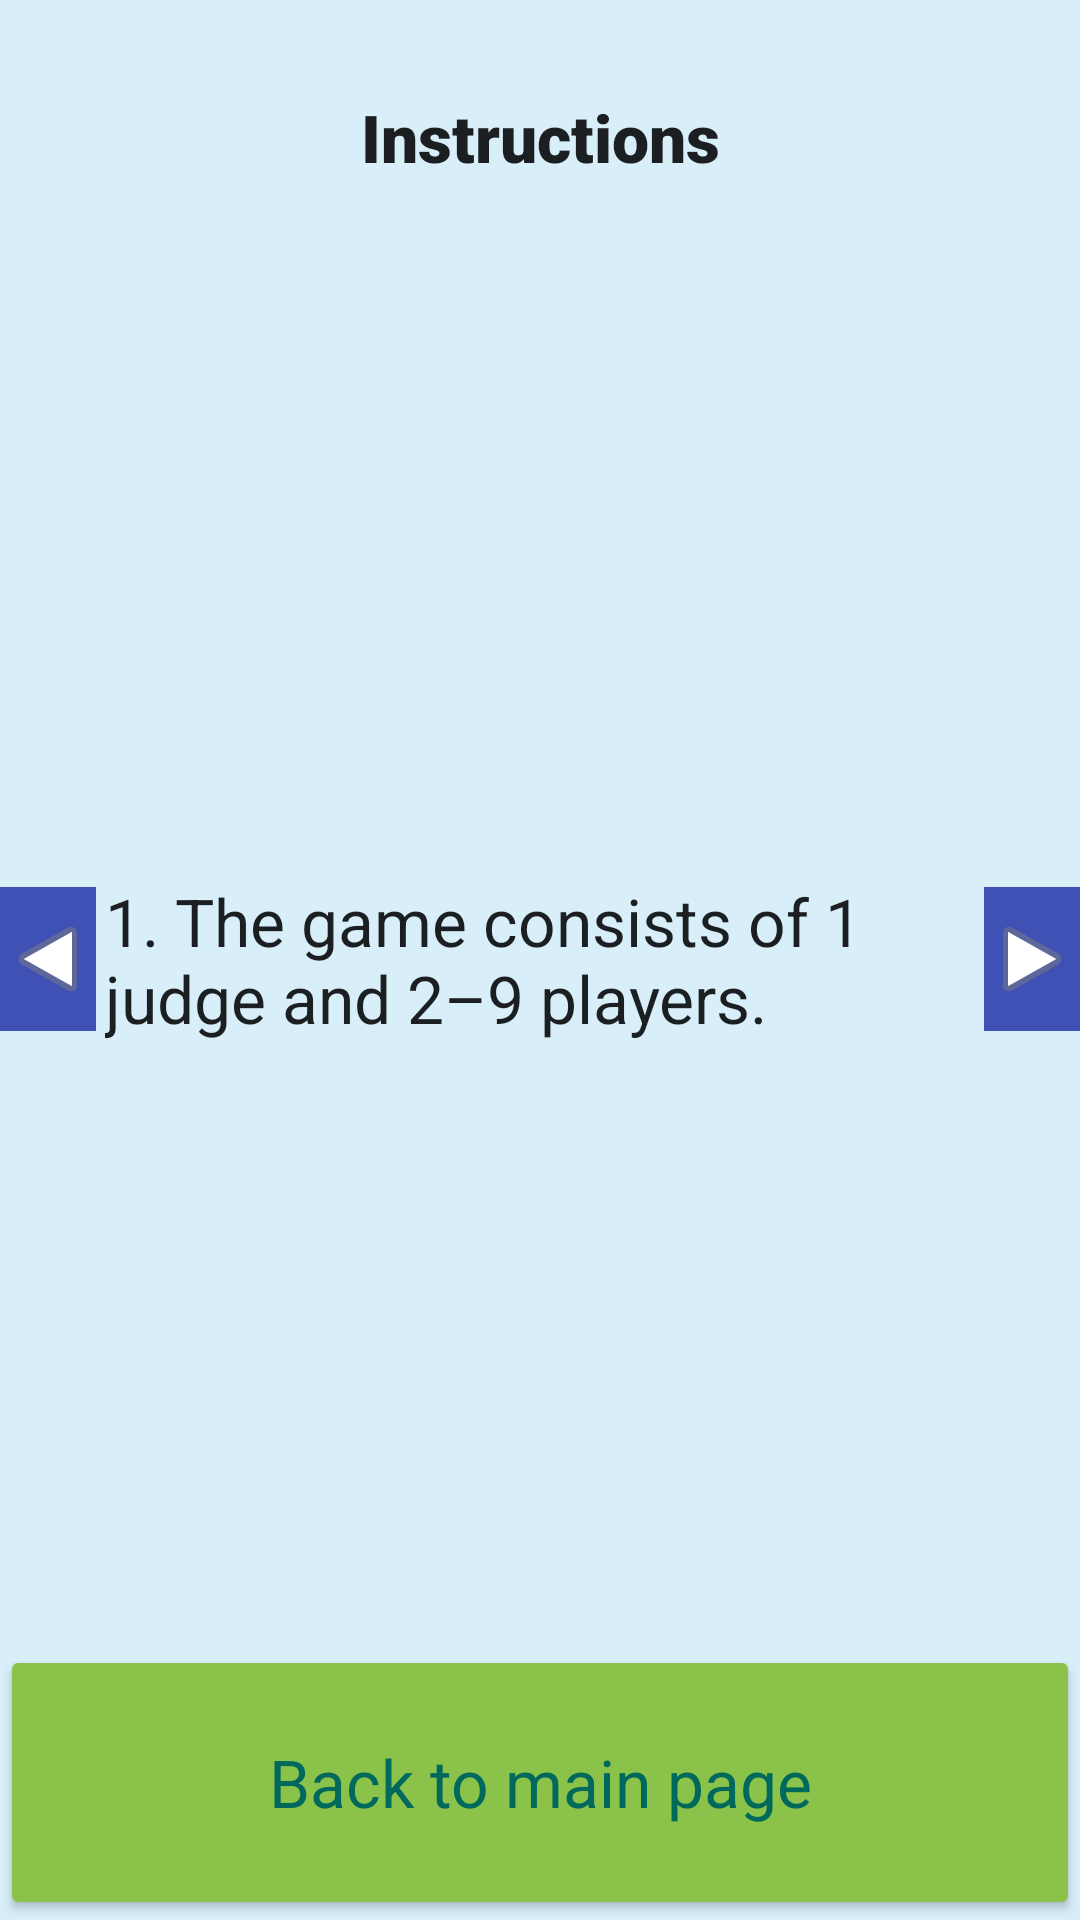

Icons on this 1080w x 1920h Android screen, each with the point to tap as (x=x, y=y):
Next: (x=1032, y=959)
